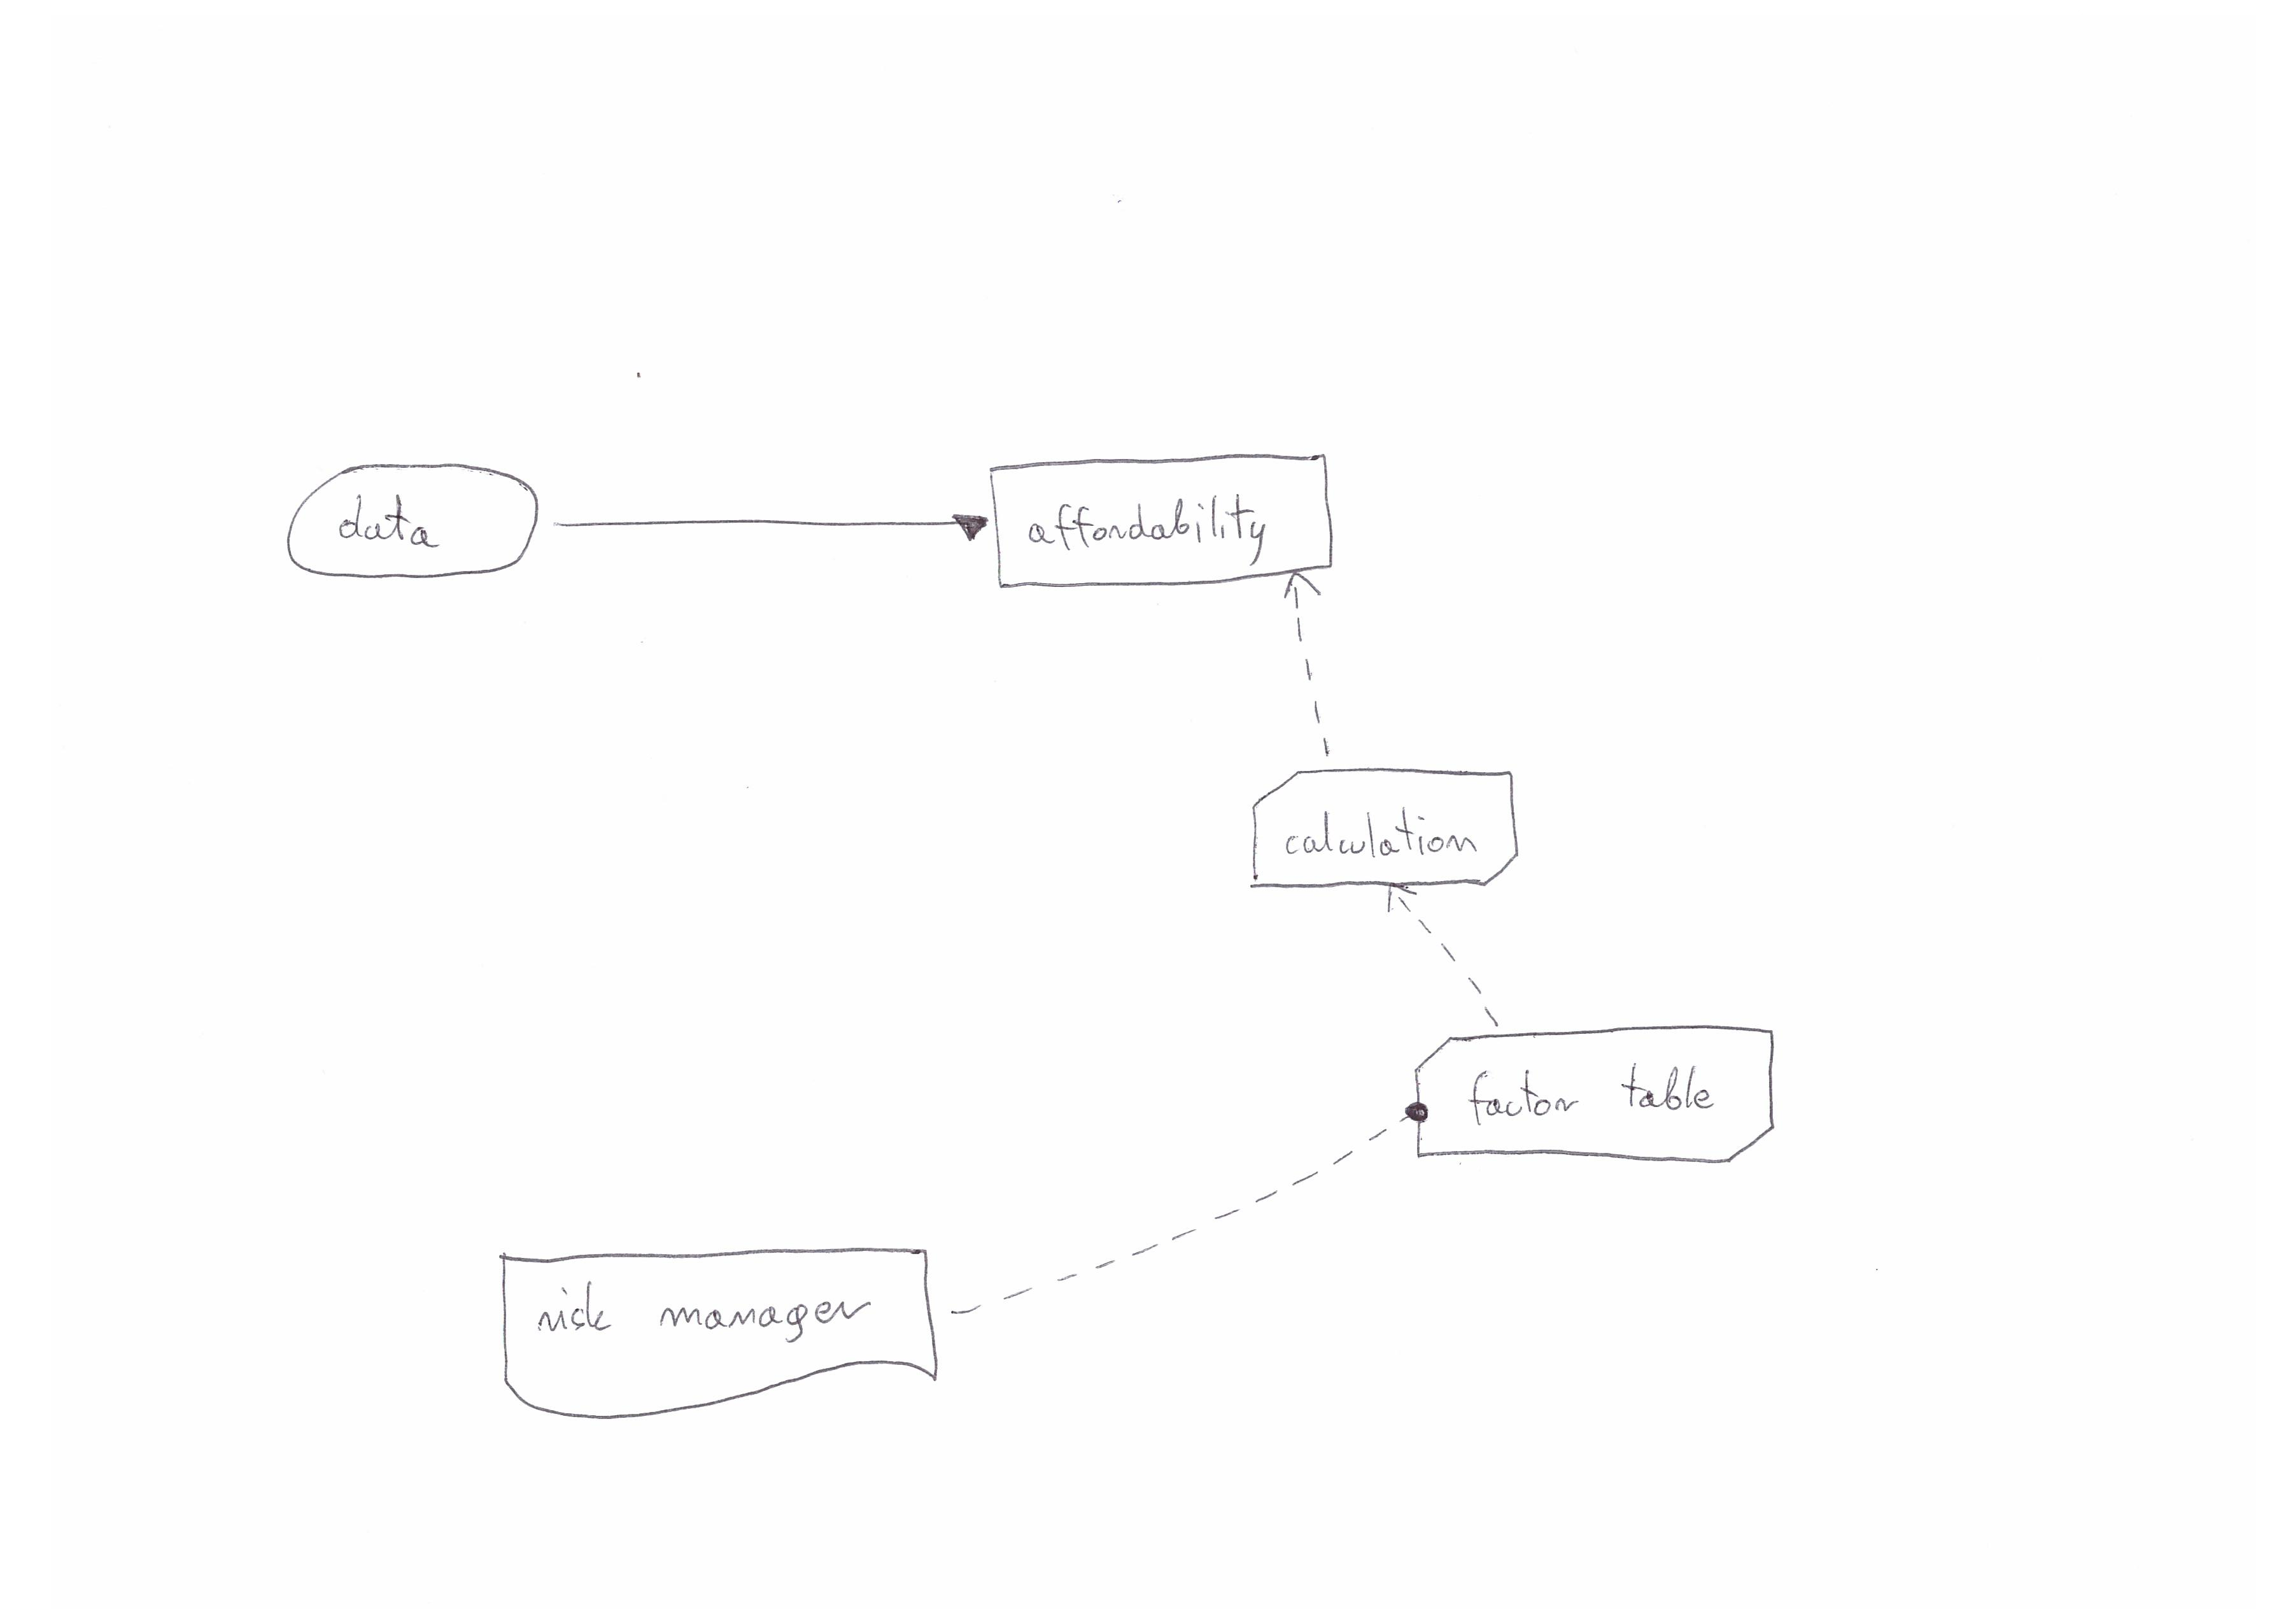arrow_authority_requirement: (945, 1090, 1427, 1345)
arrow_information_requirement: (543, 490, 993, 568)
arrow_knowledge_requirement: (1364, 879, 1508, 1032), (1277, 569, 1332, 768)
node_decision: (982, 453, 1346, 591)
node_input_data: (278, 453, 546, 592)
node_knowledge_model: (1420, 1019, 1791, 1183), (1242, 765, 1525, 895)
node_knowledge_source: (485, 1234, 952, 1427)
text: (517, 1267, 898, 1353), (1457, 1055, 1741, 1137), (1012, 482, 1274, 569), (1270, 794, 1492, 868), (329, 482, 453, 564)
